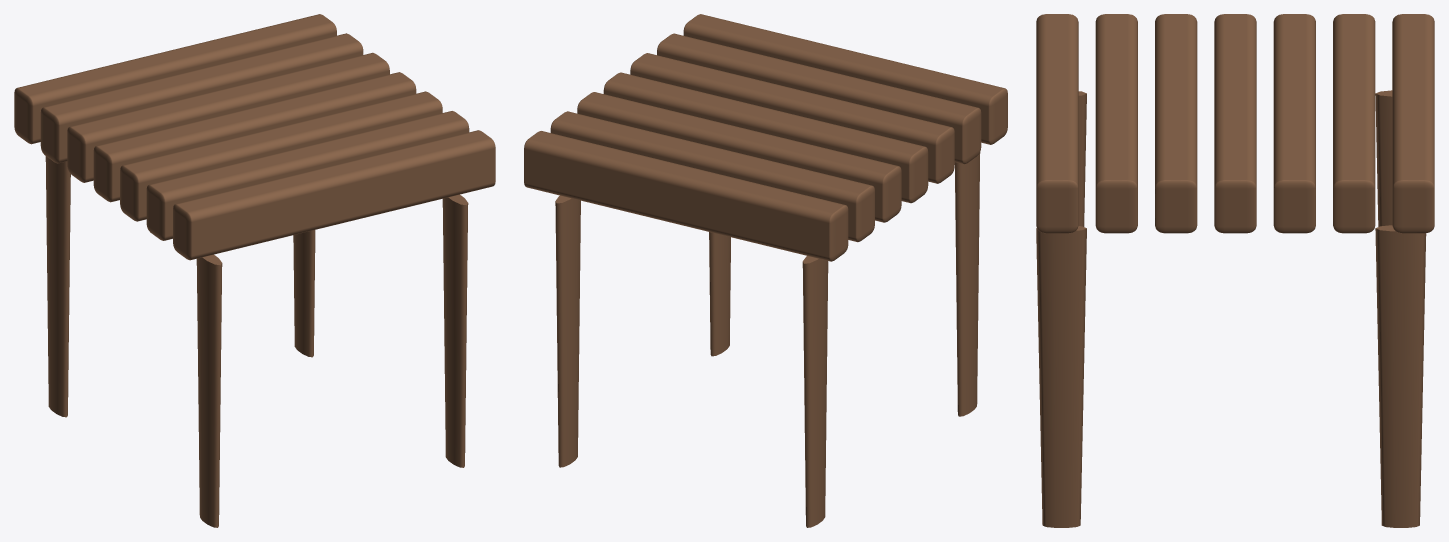
File: entry-bench.glb
3 renders of one model, left to right at view 1: azimuth 30°, elevation 25°; view 2: azimuth 150°, elevation 25°; view 3: azimuth 270°, elevation 25°, orthographic. The views are drawn at different scales.
Parts seen in each view (by area): view 1: part; view 2: part; view 3: part.
Part boxes in pixels (left/top/right/bottom): part: left=14, top=14, right=495, bottom=527; part: left=524, top=14, right=1007, bottom=527; part: left=1036, top=14, right=1434, bottom=527.
Bounding box in the file's own units: 1 × 1 × 1.
